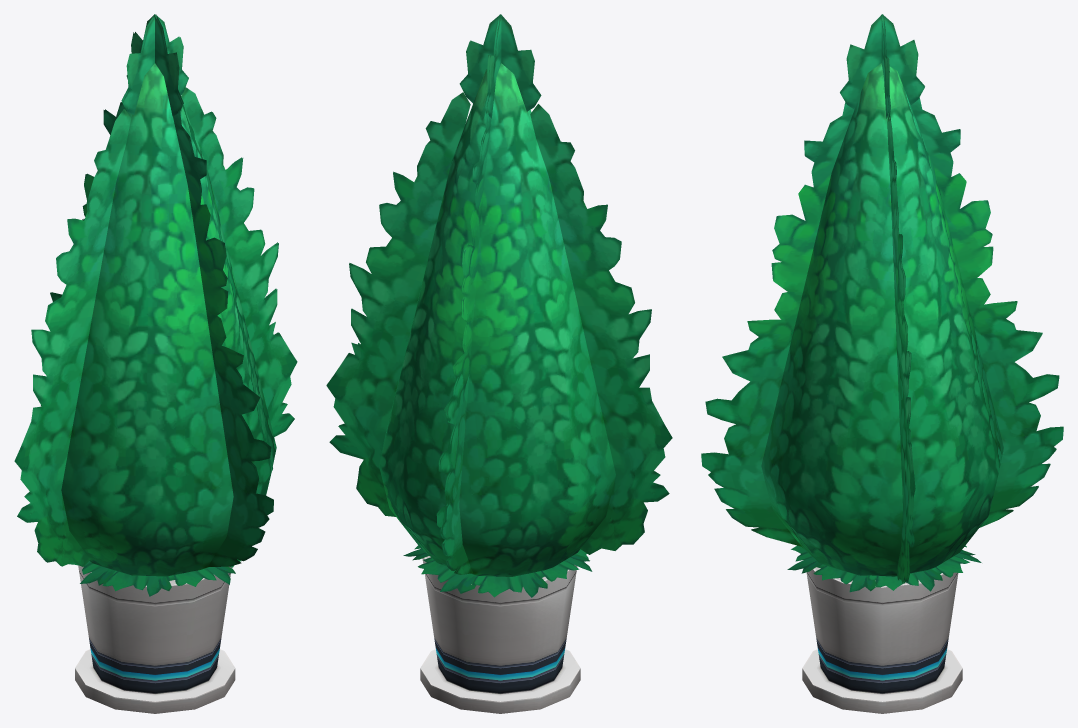
The model's file is my_millenniumlounge_01_plantpot_04.glb.
3 renders of one model, left to right at view 1: azimuth 30°, elevation 25°; view 2: azimuth 150°, elevation 25°; view 3: azimuth 270°, elevation 25°, orthographic.
Visible parts, largest first — view 1: my_millenniumlounge_01_plantpot_04_leaves, my_millenniumlounge_01_plantpot_04; view 2: my_millenniumlounge_01_plantpot_04_leaves, my_millenniumlounge_01_plantpot_04; view 3: my_millenniumlounge_01_plantpot_04_leaves, my_millenniumlounge_01_plantpot_04.
Boxes of the visible parts, x1,y1,x2,y2 form: my_millenniumlounge_01_plantpot_04_leaves: (14,14,297,596); my_millenniumlounge_01_plantpot_04: (75,565,235,713); my_millenniumlounge_01_plantpot_04_leaves: (326,14,672,597); my_millenniumlounge_01_plantpot_04: (420,556,580,713); my_millenniumlounge_01_plantpot_04_leaves: (701,14,1063,592); my_millenniumlounge_01_plantpot_04: (802,567,962,713).
Bounding box in the file's own units: 0.00888 × 0.018 × 0.00888.
2 materials, 2 textured.
